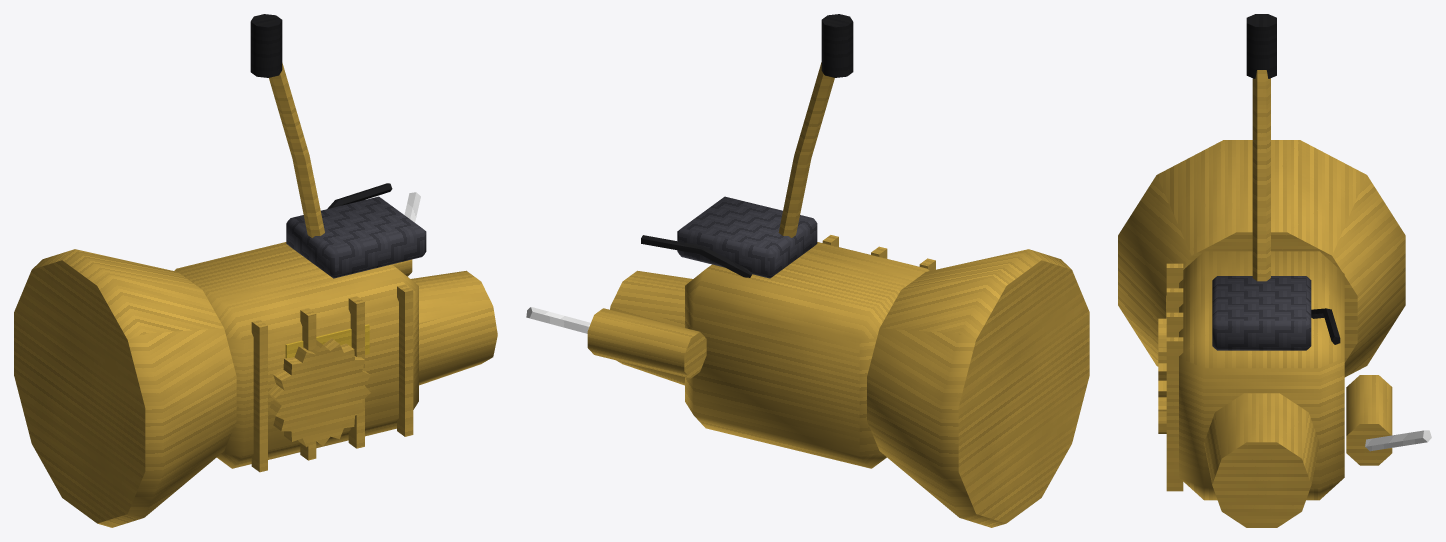
Rendered from cambio_especial.glb.
The picture shows the model from 3 angles, left to right: view 1: azimuth 30°, elevation 25°; view 2: azimuth 150°, elevation 25°; view 3: azimuth 270°, elevation 25°; orthographic projection. The views are drawn at different scales.
Visible parts, largest first — view 1: cambio_especial; view 2: cambio_especial; view 3: cambio_especial.
Boxes of the visible parts, x1,y1,x2,y2 form: cambio_especial: (14, 14, 497, 527); cambio_especial: (526, 14, 1089, 527); cambio_especial: (1118, 14, 1431, 527).
Size of the model in its own units: 0.6061 by 0.6239 by 0.3795.
4 materials, 4 textured.
